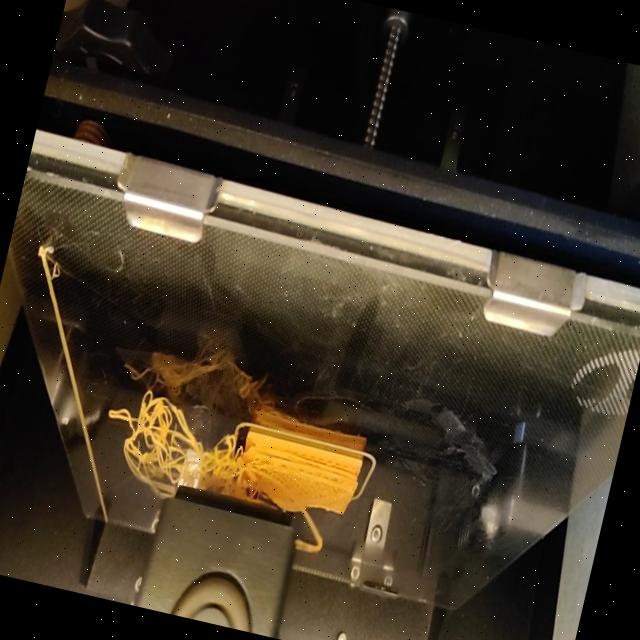spaghetti: (94, 378, 197, 496), (175, 428, 276, 506)
